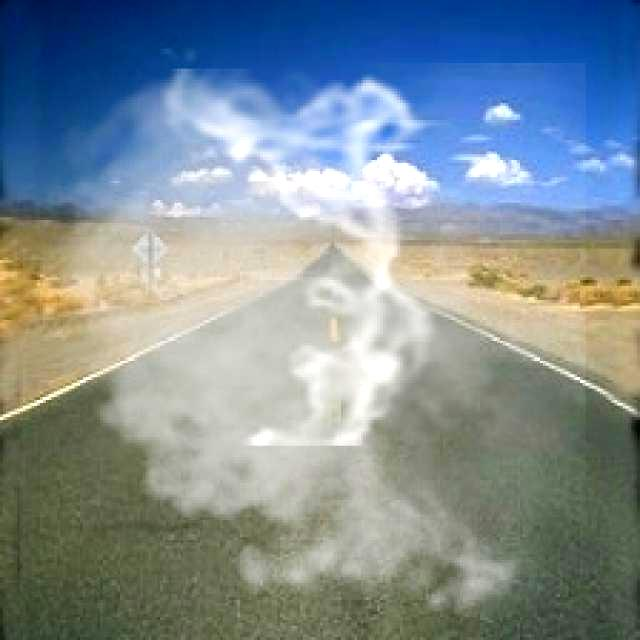Smoke: (17, 63, 586, 631)
